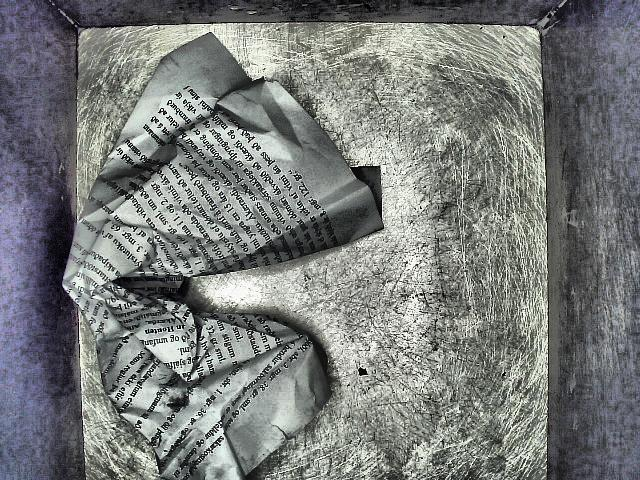Paper: (56, 27, 393, 480)
